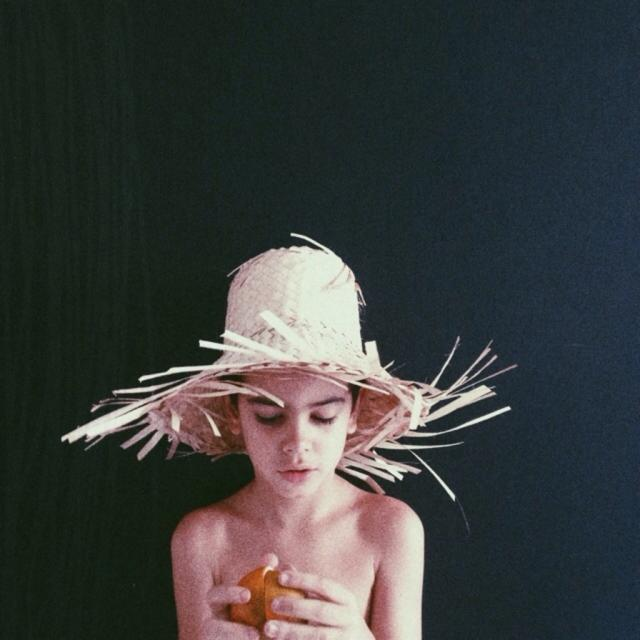Hat: (59, 232, 518, 532)
